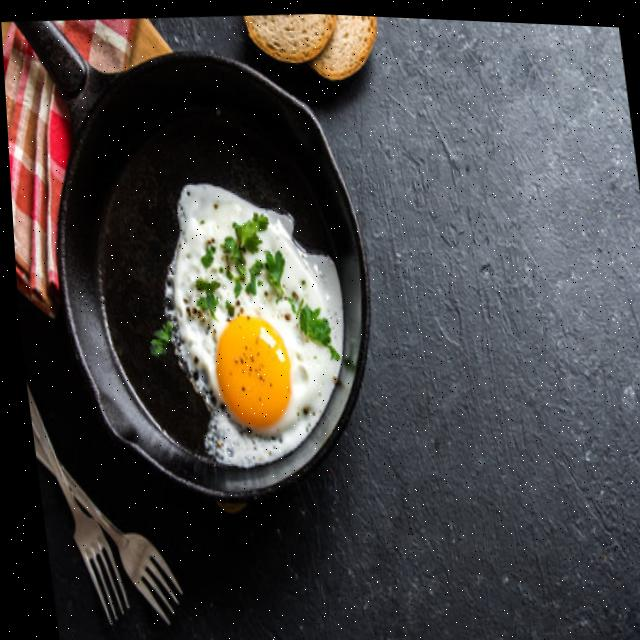Egg: (146, 182, 339, 464)
